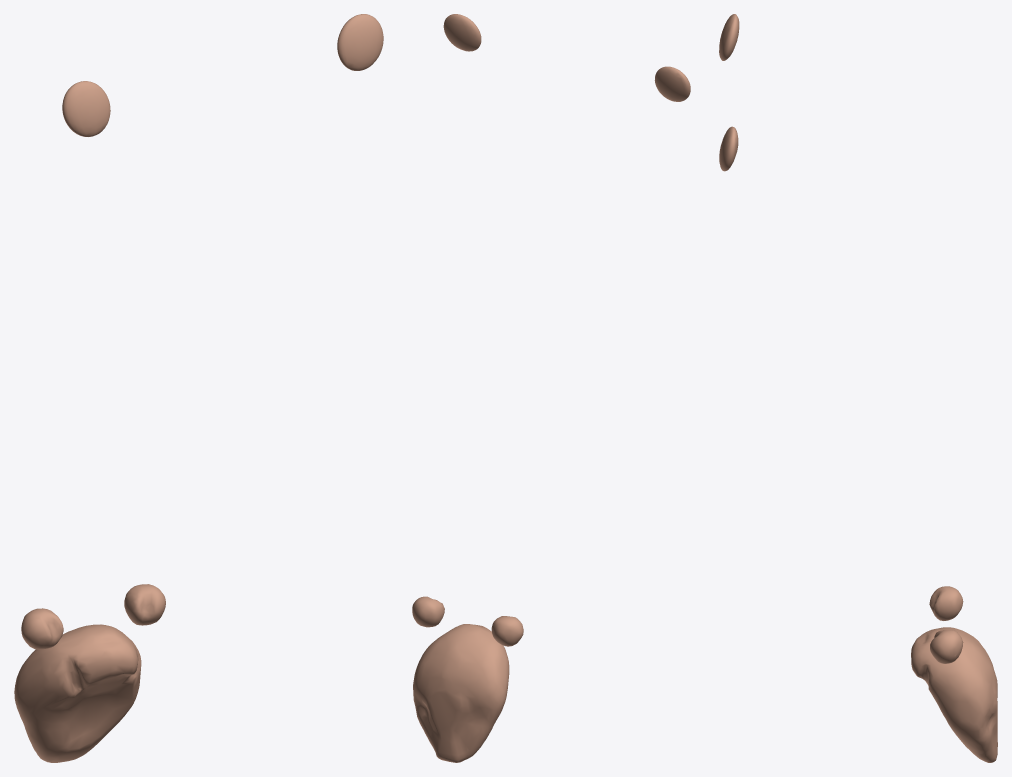
The model's file is pediatric_neonate_female.reproductive.LOD0.glb.
3 views of the same model, side by side, from view 1: azimuth 30°, elevation 25°; view 2: azimuth 150°, elevation 25°; view 3: azimuth 270°, elevation 25° (orthographic). The views are drawn at different scales.
Visible parts, largest first — view 1: PEDIATRIC.NEONATE.FEMALE.REPRODUCTIVE.UTERUS, PEDIATRIC.NEONATE.FEMALE.REPRODUCTIVE.BREAST_ADIPOSE_TISSUE. (×2), PEDIATRIC.NEONATE.FEMALE.REPRODUCTIVE.OVARY.R, PEDIATRIC.NEONATE.FEMALE.REPRODUCTIVE.OVARY.L; view 2: PEDIATRIC.NEONATE.FEMALE.REPRODUCTIVE.UTERUS, PEDIATRIC.NEONATE.FEMALE.REPRODUCTIVE.BREAST_ADIPOSE_TISSUE. (×2), PEDIATRIC.NEONATE.FEMALE.REPRODUCTIVE.OVARY.L, PEDIATRIC.NEONATE.FEMALE.REPRODUCTIVE.OVARY.R; view 3: PEDIATRIC.NEONATE.FEMALE.REPRODUCTIVE.UTERUS, PEDIATRIC.NEONATE.FEMALE.REPRODUCTIVE.BREAST_ADIPOSE_TISSUE. (×2), PEDIATRIC.NEONATE.FEMALE.REPRODUCTIVE.OVARY.R, PEDIATRIC.NEONATE.FEMALE.REPRODUCTIVE.OVARY.L.
Part boxes in pixels (box(x1,y1,x2,y2)): PEDIATRIC.NEONATE.FEMALE.REPRODUCTIVE.UTERUS: box(14, 624, 141, 762); PEDIATRIC.NEONATE.FEMALE.REPRODUCTIVE.BREAST_ADIPOSE_TISSUE. (×2): box(62, 14, 383, 136); PEDIATRIC.NEONATE.FEMALE.REPRODUCTIVE.OVARY.R: box(21, 608, 63, 649); PEDIATRIC.NEONATE.FEMALE.REPRODUCTIVE.OVARY.L: box(124, 584, 165, 625); PEDIATRIC.NEONATE.FEMALE.REPRODUCTIVE.UTERUS: box(413, 624, 509, 762); PEDIATRIC.NEONATE.FEMALE.REPRODUCTIVE.BREAST_ADIPOSE_TISSUE. (×2): box(443, 14, 690, 101); PEDIATRIC.NEONATE.FEMALE.REPRODUCTIVE.OVARY.L: box(412, 596, 444, 627); PEDIATRIC.NEONATE.FEMALE.REPRODUCTIVE.OVARY.R: box(491, 616, 523, 646); PEDIATRIC.NEONATE.FEMALE.REPRODUCTIVE.UTERUS: box(911, 627, 997, 762); PEDIATRIC.NEONATE.FEMALE.REPRODUCTIVE.BREAST_ADIPOSE_TISSUE. (×2): box(719, 14, 739, 171); PEDIATRIC.NEONATE.FEMALE.REPRODUCTIVE.OVARY.R: box(929, 586, 963, 620); PEDIATRIC.NEONATE.FEMALE.REPRODUCTIVE.OVARY.L: box(930, 630, 963, 663).
Size of the model in its own units: 0.062 by 0.1528 by 0.0561.
